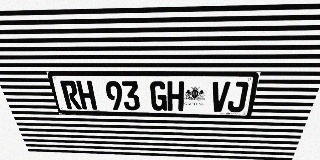3: (121, 81, 140, 110)
9: (104, 81, 124, 110)
G: (150, 81, 167, 111)
H: (76, 81, 97, 109), (167, 81, 184, 111)
J: (227, 82, 249, 112)
R: (59, 80, 82, 109)
V: (210, 81, 231, 112)
